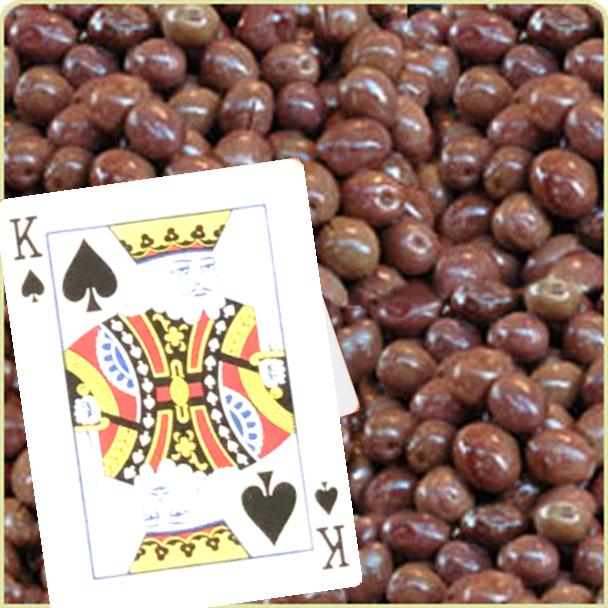s13: (310, 477, 352, 573), (5, 211, 47, 306)
